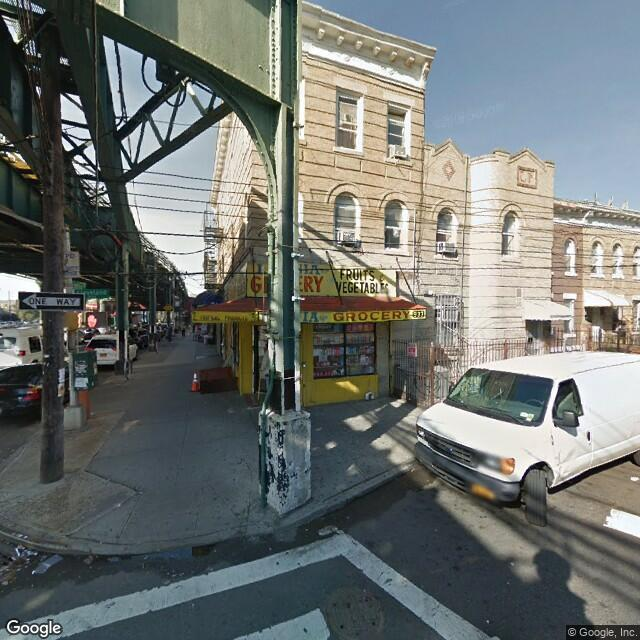litter: (31, 553, 64, 569), (12, 543, 25, 570), (316, 526, 345, 538), (364, 390, 376, 400), (267, 543, 274, 554), (631, 474, 639, 483), (113, 501, 121, 507), (483, 616, 489, 623), (508, 559, 514, 565), (301, 527, 308, 531)
